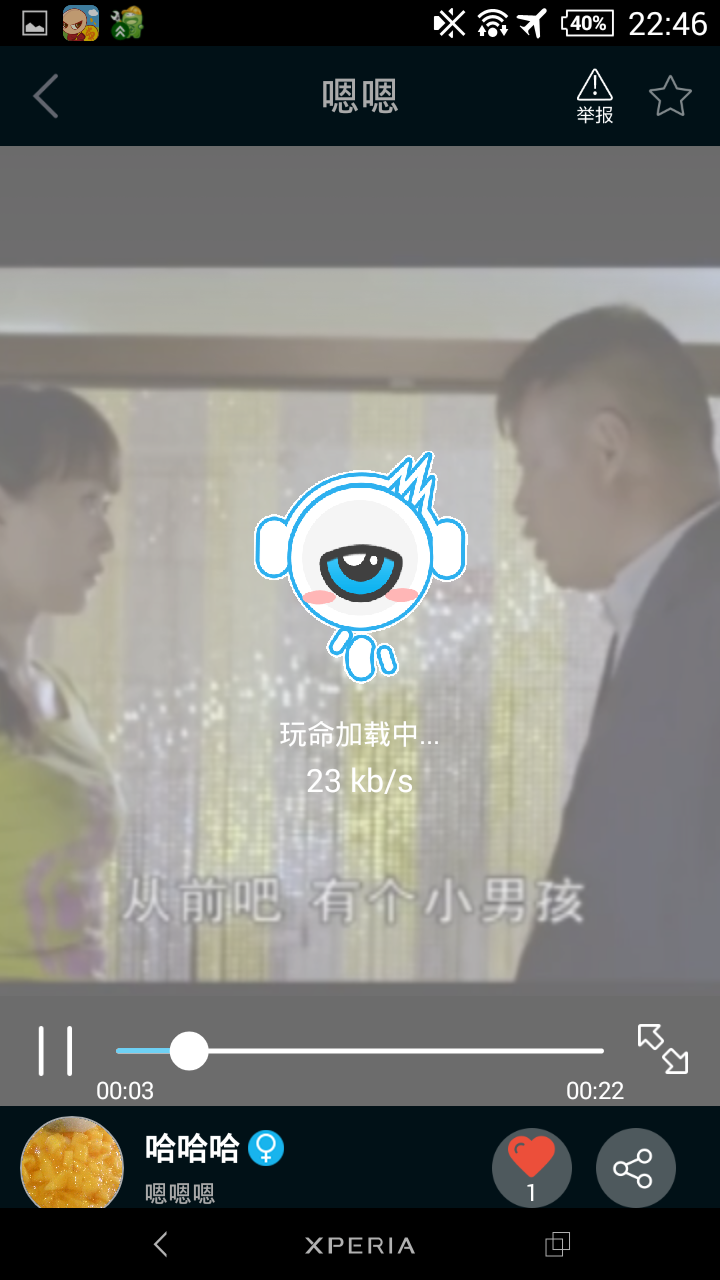imgbutton: (627, 1013, 704, 1083)
